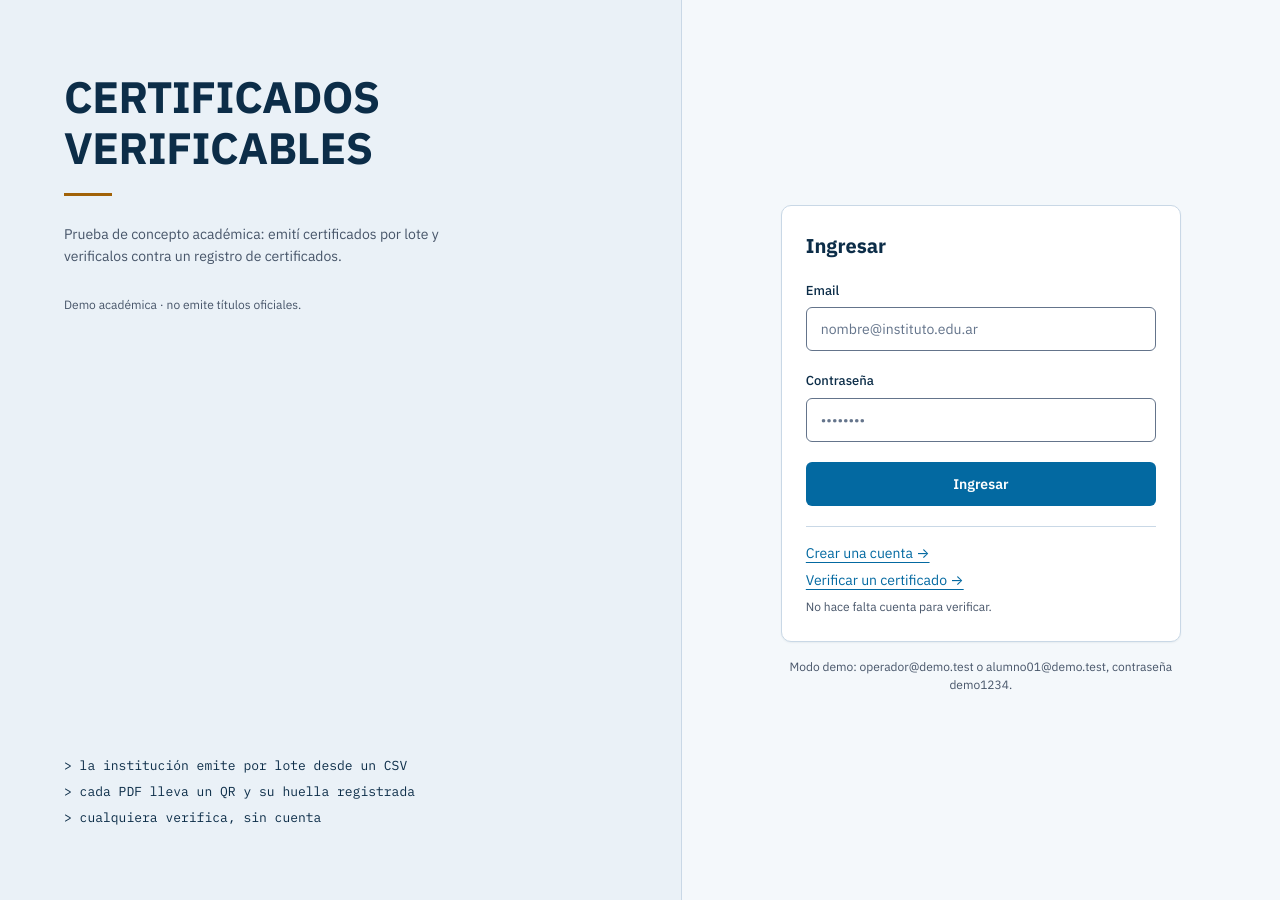
Test: login › operador entra a /operator/batches
In the field labelled "Email": (981, 329) x1=806 y1=307 x2=1156 y2=351, type "operador@demo.test"
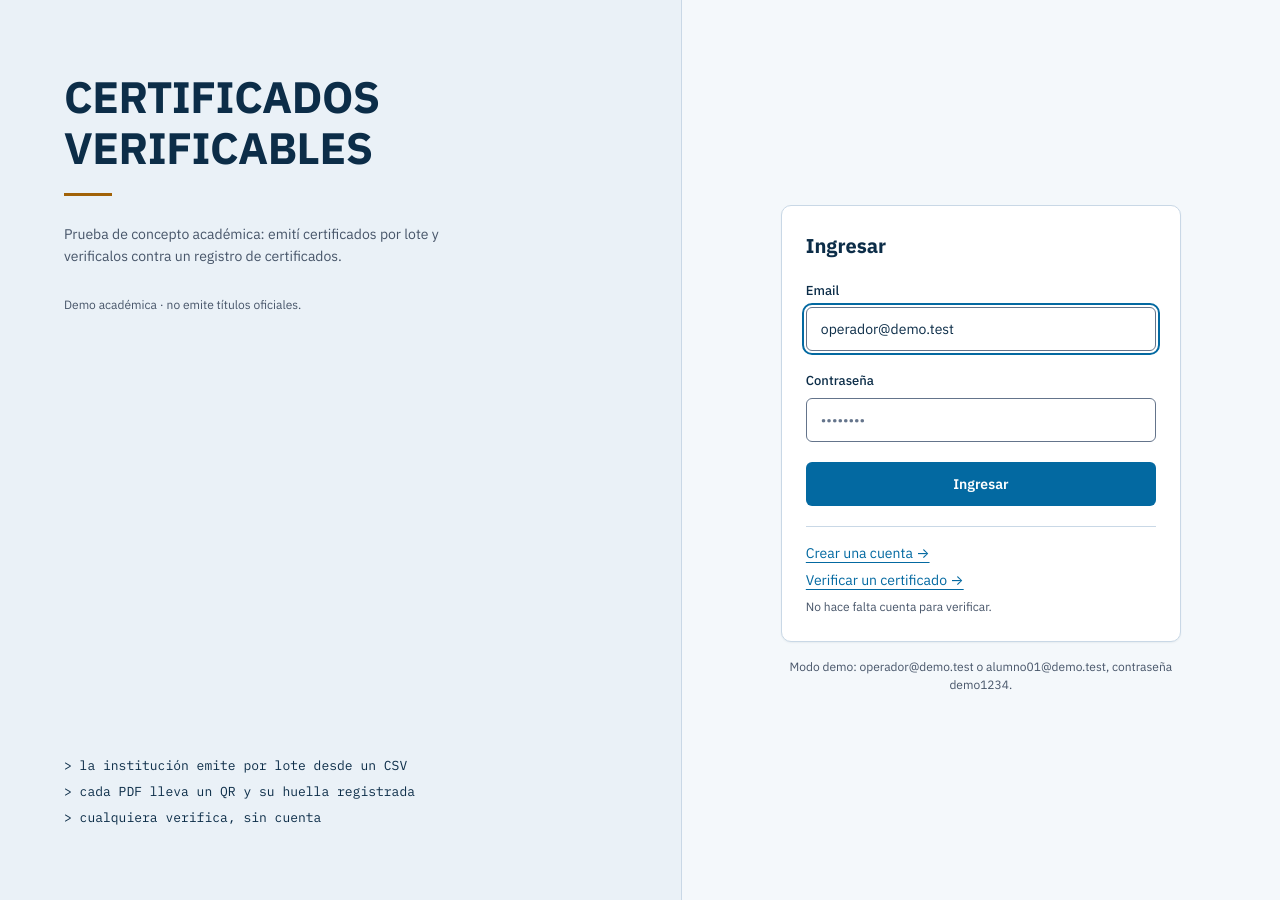
In the password field labelled "Contraseña": (981, 420) x1=806 y1=398 x2=1156 y2=442, type "demo1234"
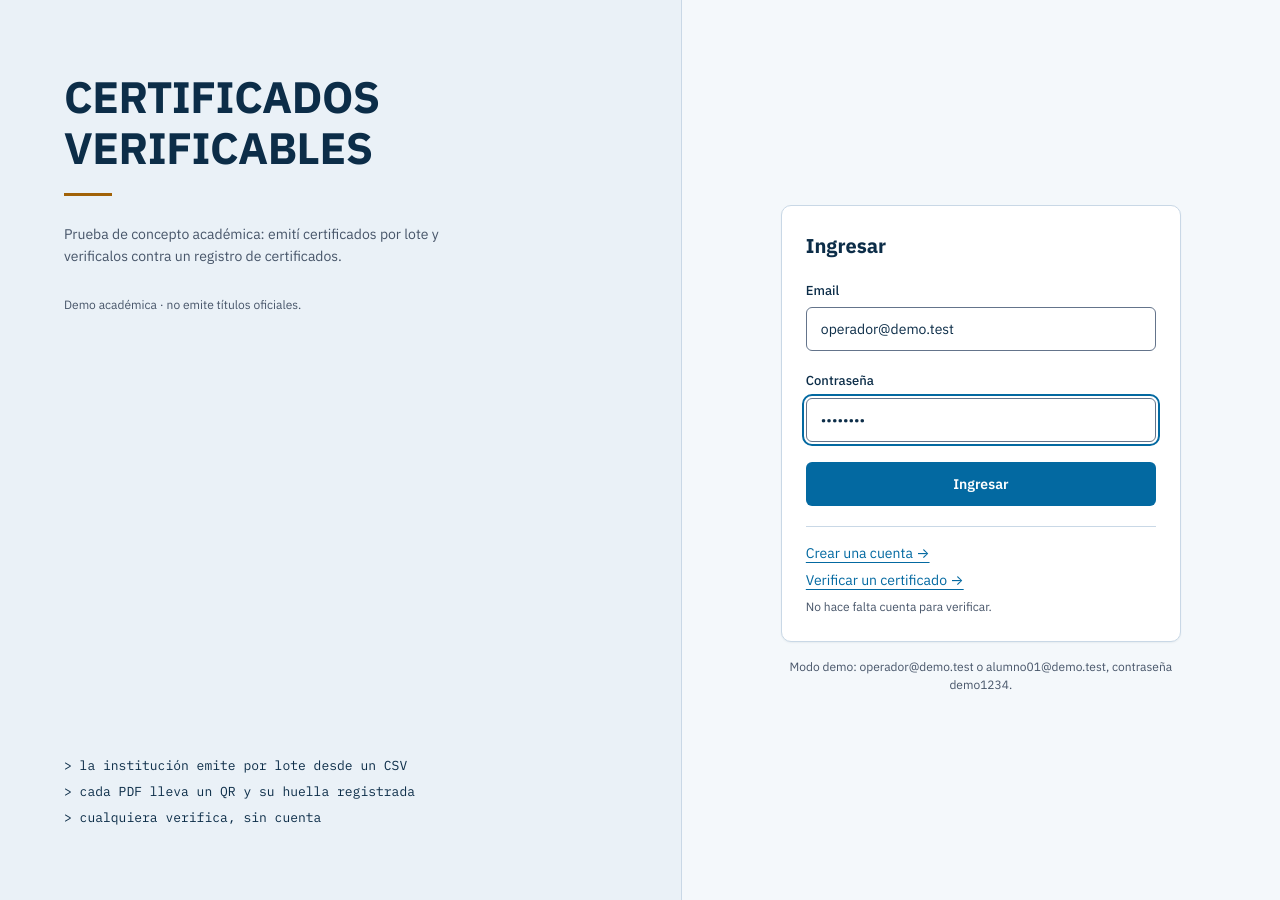
Click the button "Ingresar": (981, 484) x1=806 y1=462 x2=1156 y2=506
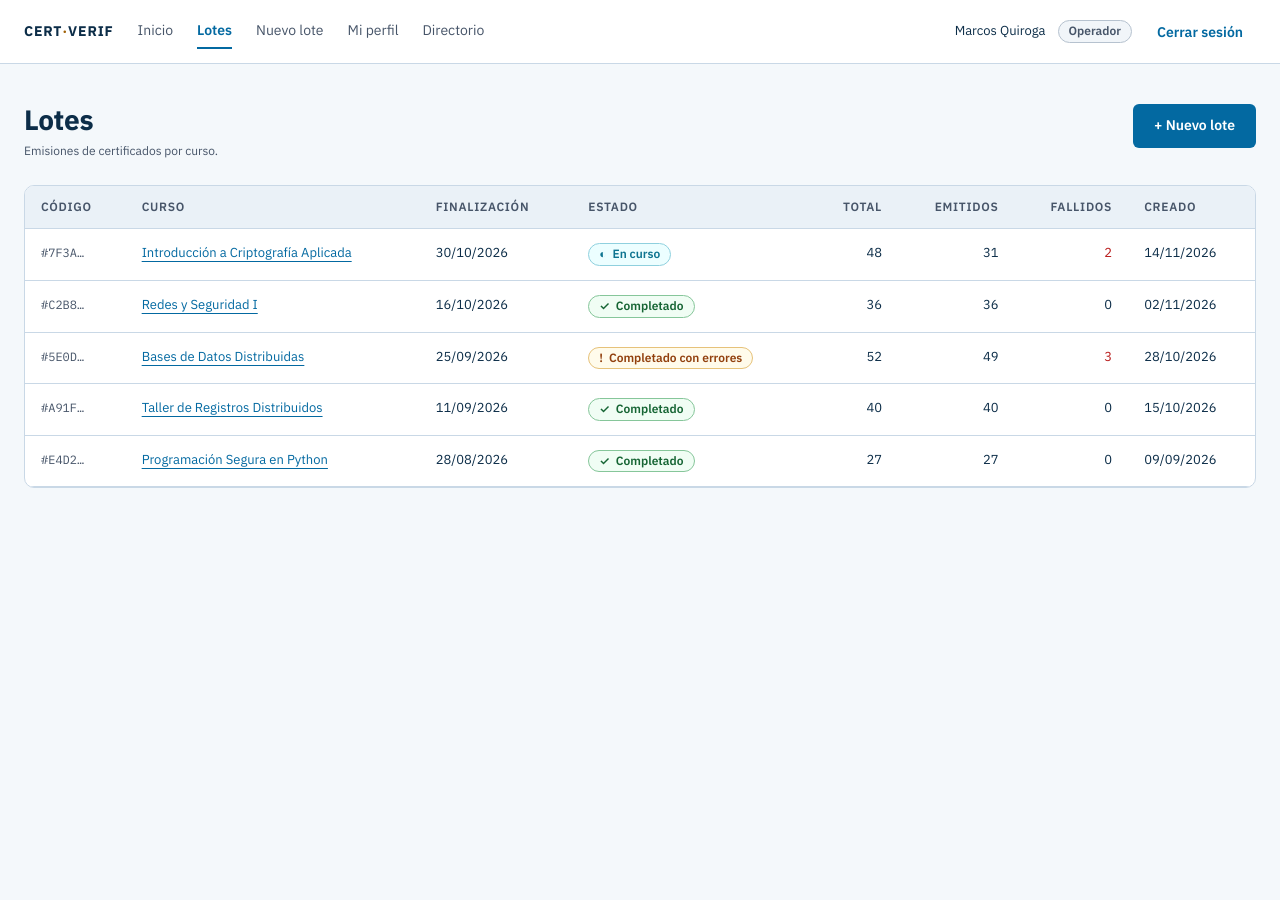
Now the heading "Lotes" is shown, box x1=24 y1=101 x2=93 y2=138
Now the text "Marcos Quiroga" is shown, box x1=955 y1=21 x2=1046 y2=42
